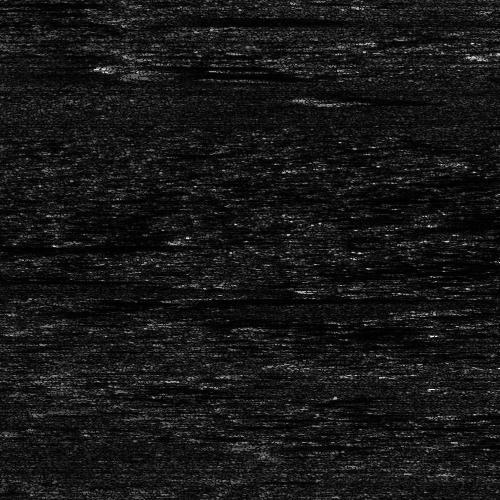object: (114, 65, 177, 82), (88, 12, 181, 23), (71, 57, 134, 72), (208, 441, 301, 448), (288, 93, 351, 102), (461, 49, 500, 58), (152, 295, 215, 300), (0, 277, 9, 282)
shadow: (146, 65, 294, 82), (103, 57, 267, 72), (0, 239, 160, 252), (135, 12, 320, 23), (184, 295, 427, 300), (320, 93, 397, 102), (255, 441, 335, 448), (0, 277, 107, 282)
